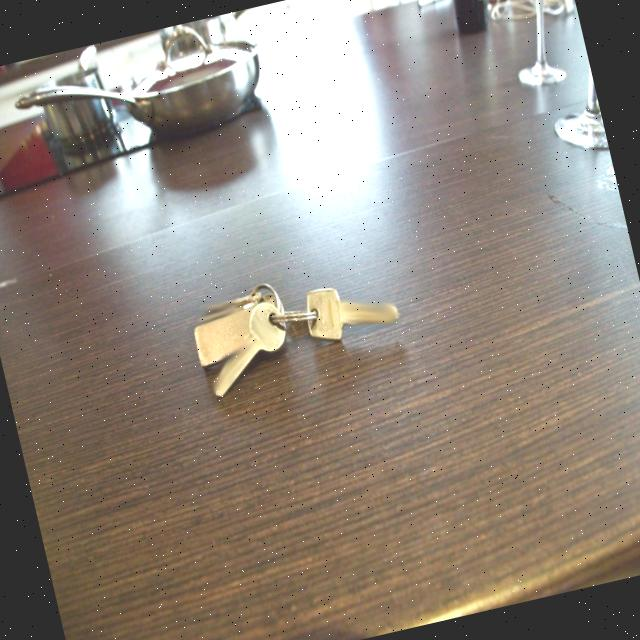Frontdoor keys: (186, 290, 295, 406), (296, 270, 406, 360)
